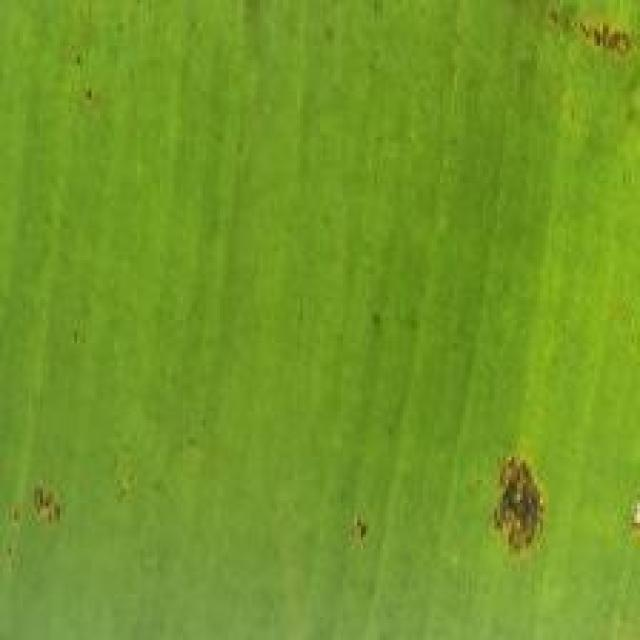Downey_mildrew: (345, 371, 640, 605), (491, 0, 640, 126), (54, 28, 147, 150), (13, 435, 88, 576)
